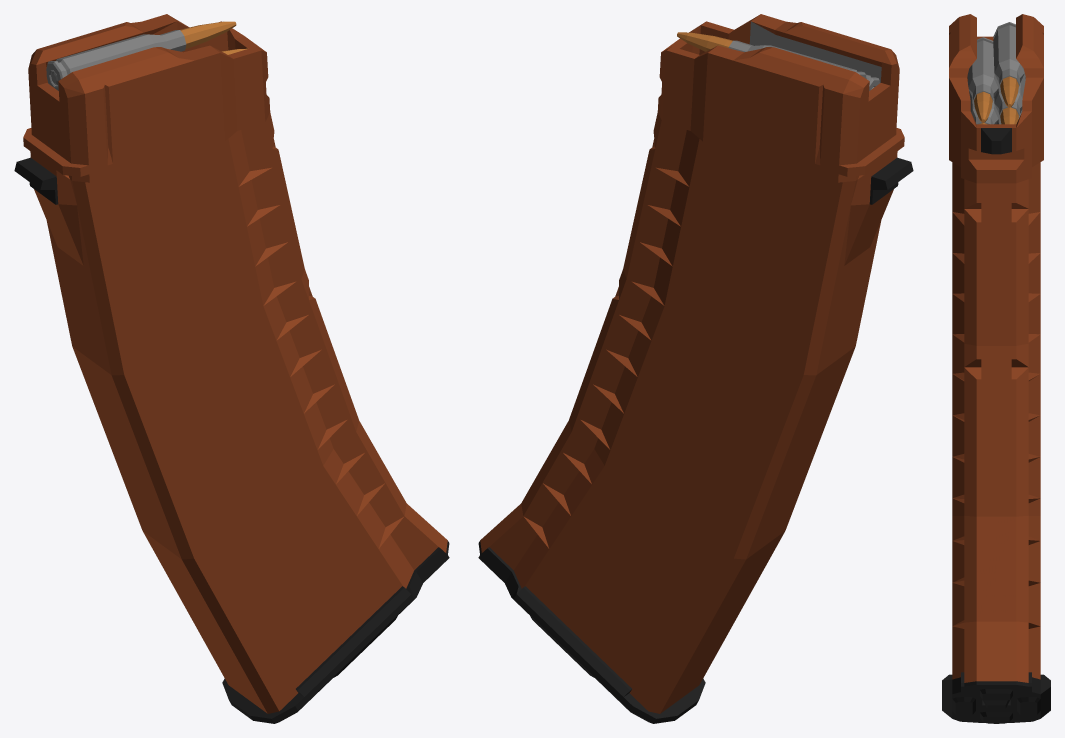
Rendered from aks-74_magazine.glb.
3 renders of one model, left to right at view 1: azimuth 30°, elevation 25°; view 2: azimuth 150°, elevation 25°; view 3: azimuth 270°, elevation 25°, orthographic. The views are drawn at different scales.
Parts seen in each view (by area): view 1: ak74 30rnd bakelite mag_7 (×4); view 2: ak74 30rnd bakelite mag_7 (×3); view 3: ak74 30rnd bakelite mag_7 (×4).
Boxes of the visible parts, left/top/right/bottom form: ak74 30rnd bakelite mag_7 (×4): left=14, top=14, right=449, bottom=723; ak74 30rnd bakelite mag_7 (×3): left=478, top=14, right=913, bottom=723; ak74 30rnd bakelite mag_7 (×4): left=942, top=14, right=1050, bottom=723.
Bounding box in the file's own units: 1.29 × 2.11 × 0.3312.
